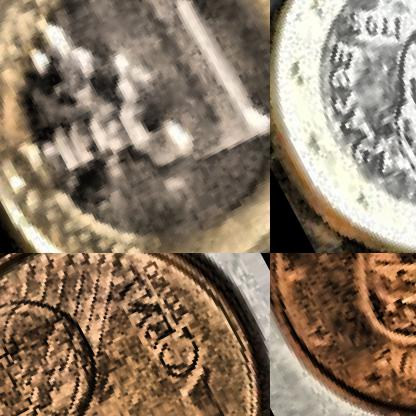coin: (0, 0, 269, 252), (0, 253, 269, 415), (270, 0, 415, 252), (270, 253, 415, 415)
